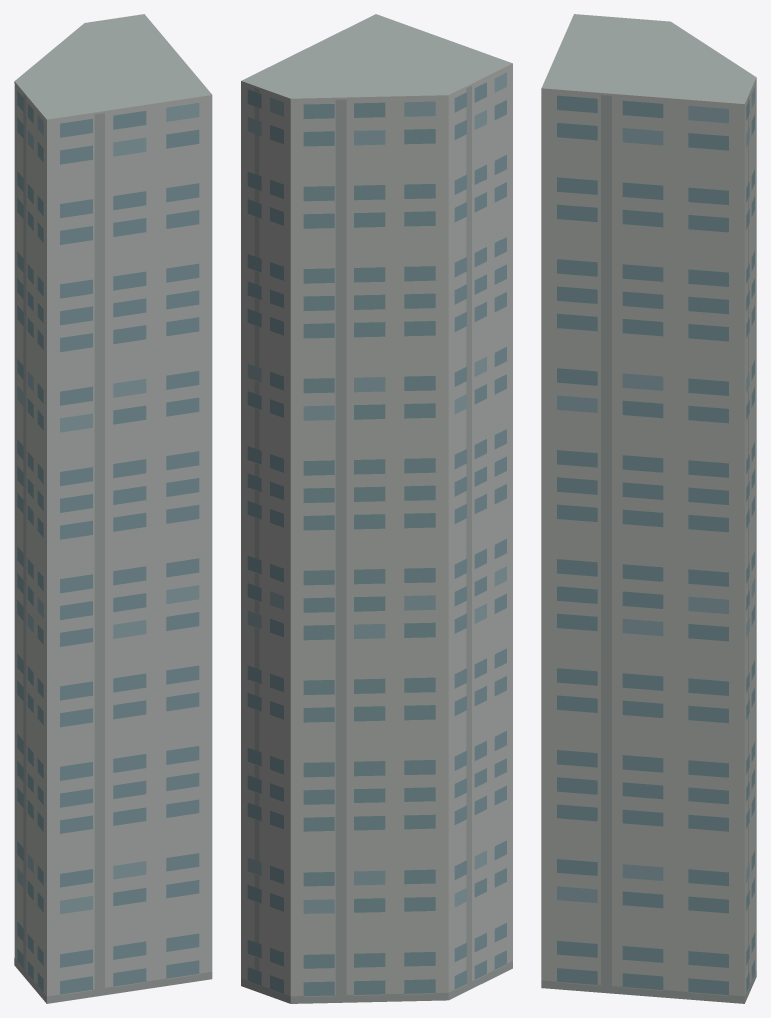
File: residential-d8216b63-799d-4034-b89e-47749109c53c.glb
3 renders of one model, left to right at view 1: azimuth 30°, elevation 25°; view 2: azimuth 150°, elevation 25°; view 3: azimuth 270°, elevation 25°, orthographic. The views are drawn at different scales.
Visible parts, largest first — view 1: residential-d8216b63-799d-4034-b89e-47749109c53c.tmp; view 2: residential-d8216b63-799d-4034-b89e-47749109c53c.tmp; view 3: residential-d8216b63-799d-4034-b89e-47749109c53c.tmp.
Part boxes in pixels (box(x1,y1,x2,y2)): residential-d8216b63-799d-4034-b89e-47749109c53c.tmp: box(14, 14, 212, 1003); residential-d8216b63-799d-4034-b89e-47749109c53c.tmp: box(241, 14, 512, 1003); residential-d8216b63-799d-4034-b89e-47749109c53c.tmp: box(541, 14, 756, 1003).
Bounding box in the file's own units: 23 × 107 × 23.19.
